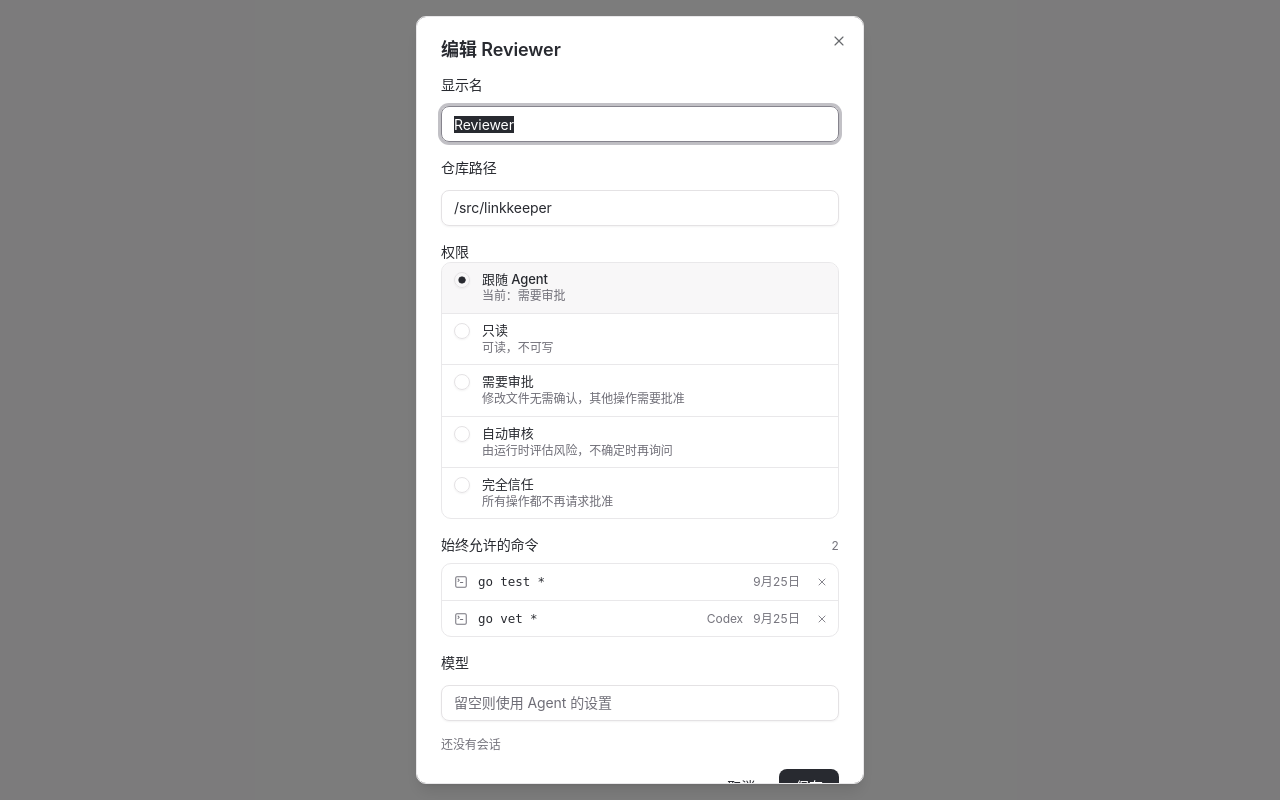
Test case: EditMemberDialog › lists what the member may always do, and takes one back
Expected: the text "go test *" is shown, left=478, top=574, right=545, bottom=589
Expected: the list item "go vet * Codex 9月25日" is shown, left=442, top=600, right=838, bottom=636
Step 1. Click the button named "撤销 go test *" → [822, 582], box left=810, top=570, right=834, bottom=594
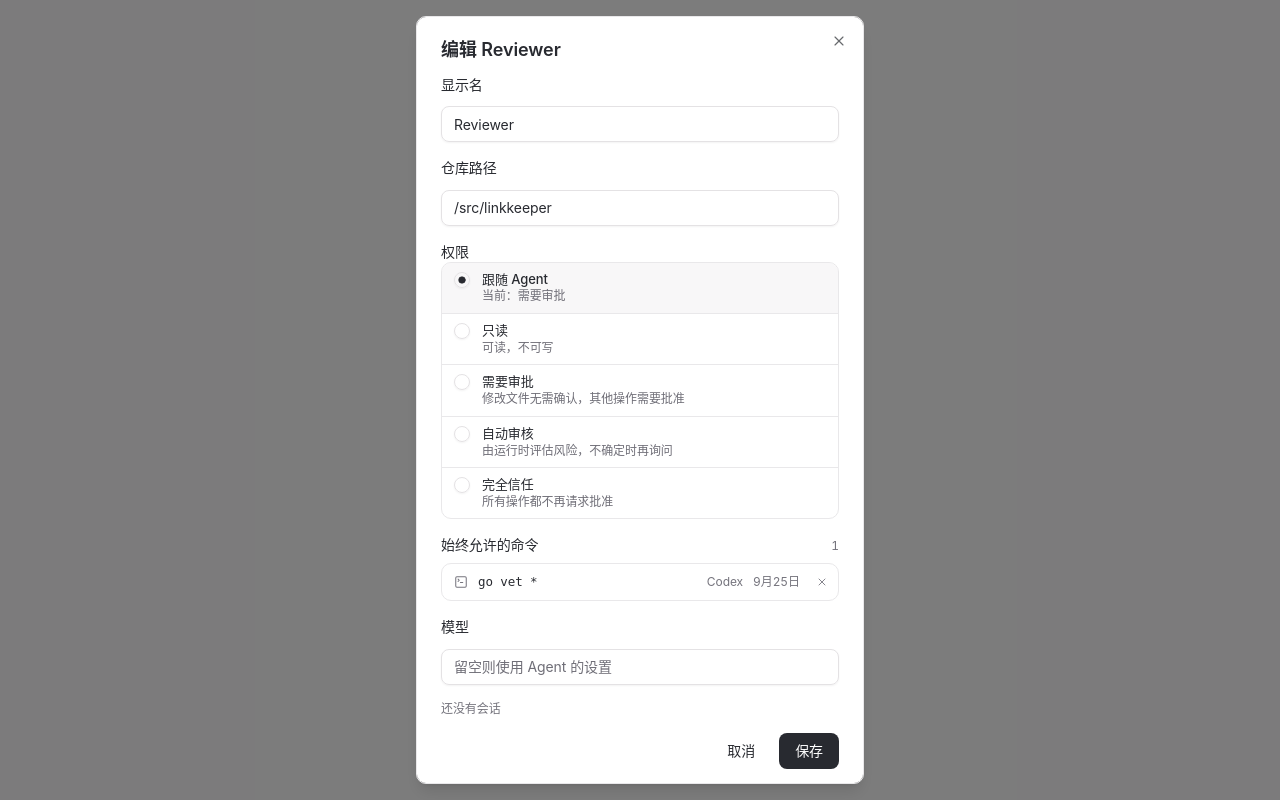
Expected: the text "go test *" is gone
